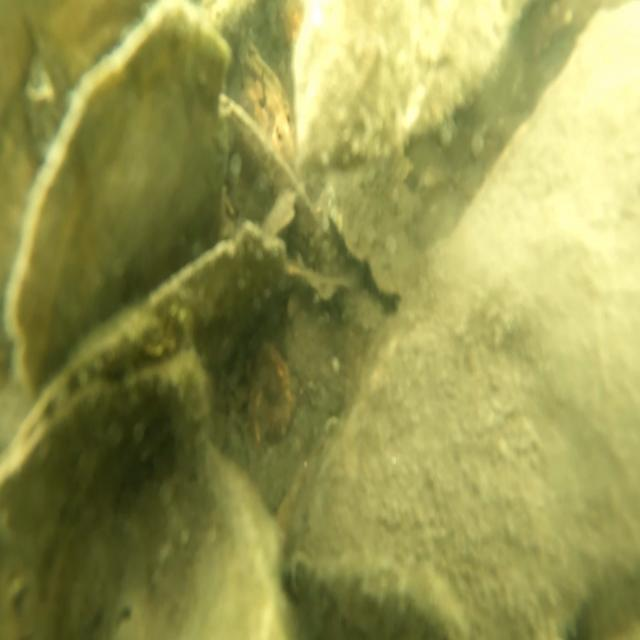Oyster-Indeterminate: (279, 0, 640, 640), (0, 355, 288, 640), (292, 0, 520, 204)
Oyster-Open: (8, 0, 294, 451)
